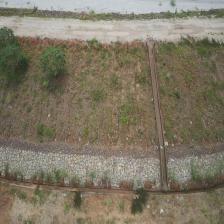rock toe: (0, 147, 161, 189), (168, 152, 224, 184)
slope drain: (146, 42, 168, 190)
